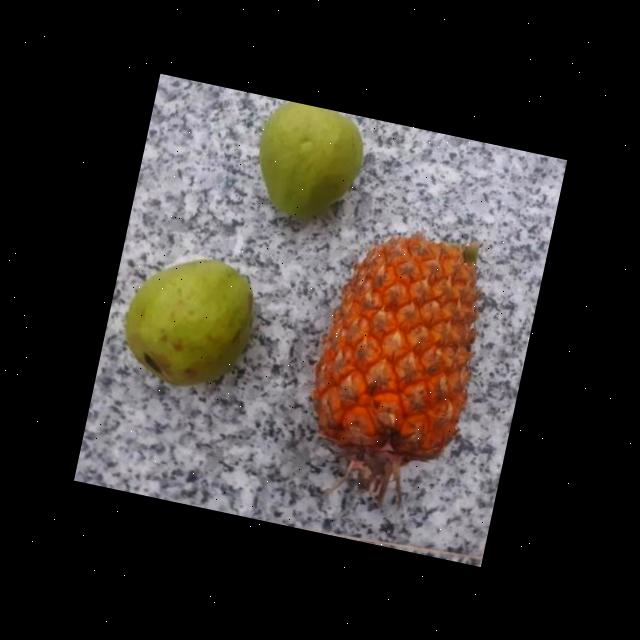guava: (116, 248, 270, 396), (245, 96, 377, 234)
pineapple: (302, 218, 499, 474)
